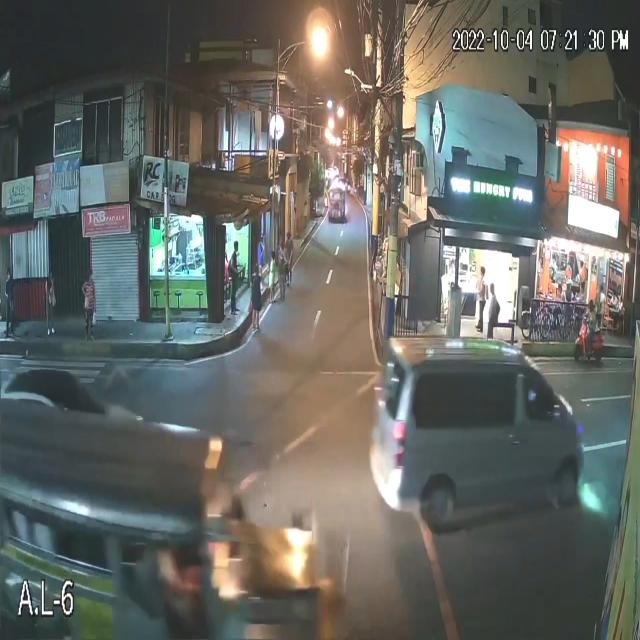Full-Faced: (587, 300, 594, 316)
